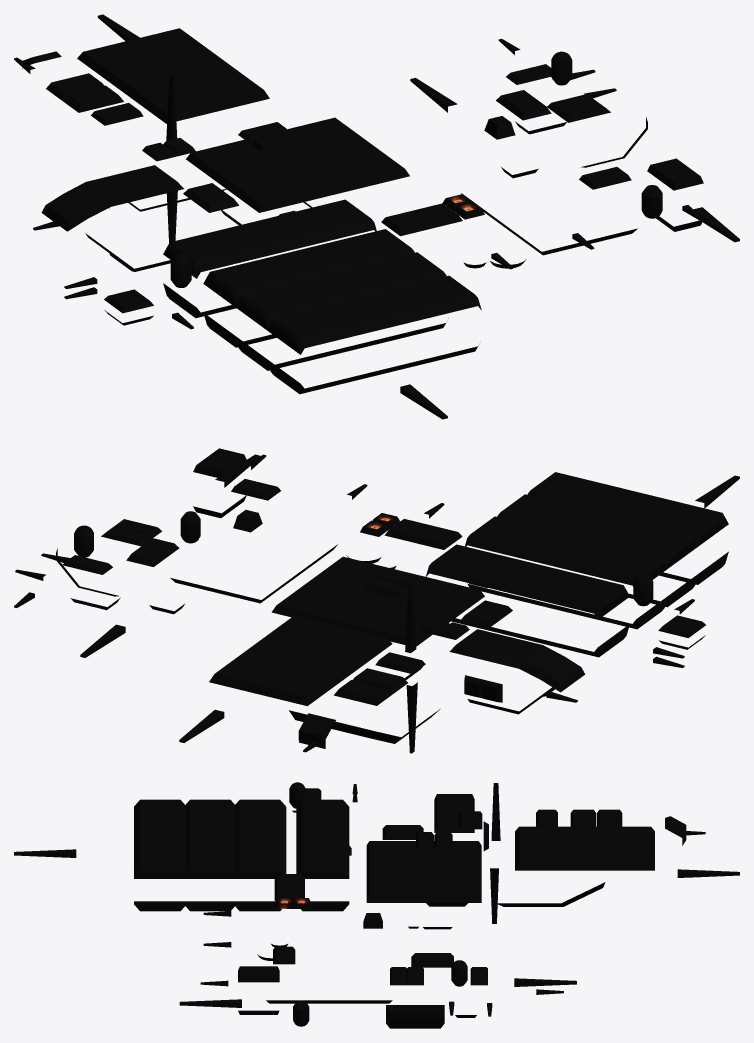
Rendered from hgn_outpost_03.glb.
The picture shows the model from 3 angles, top to bottom: view 1: azimuth 30°, elevation 25°; view 2: azimuth 150°, elevation 25°; view 3: azimuth 270°, elevation 25°; orthographic projection. The views are drawn at different scales.
Visible parts, largest first — view 1: hgn_outpost_03_part_LOD0; view 2: hgn_outpost_03_part_LOD0; view 3: hgn_outpost_03_part_LOD0.
Part boxes in pixels (bbox=[...]): hgn_outpost_03_part_LOD0: bbox=[14, 14, 739, 419]; hgn_outpost_03_part_LOD0: bbox=[14, 448, 739, 753]; hgn_outpost_03_part_LOD0: bbox=[14, 782, 739, 1028].
Size of what is drawn, in the model's own units: 24.26 by 6.78 by 31.7.
Materials: 1 (1 with a texture image).
